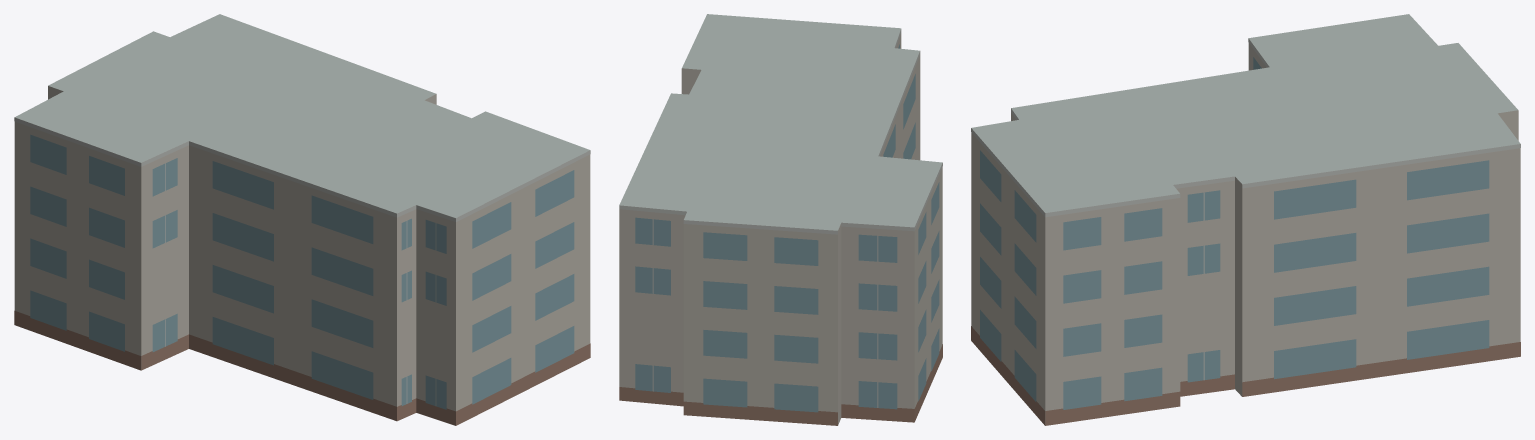
The model's file is survey-upis-32716998.glb.
3 renders of one model, left to right at view 1: azimuth 30°, elevation 25°; view 2: azimuth 150°, elevation 25°; view 3: azimuth 270°, elevation 25°, orthographic. The views are drawn at different scales.
Parts seen in each view (by area): view 1: survey-upis-32716998.tmp; view 2: survey-upis-32716998.tmp; view 3: survey-upis-32716998.tmp.
Part boxes in pixels (x1=…): survey-upis-32716998.tmp: x1=14, y1=14, x2=590, y2=425; survey-upis-32716998.tmp: x1=619, y1=14, x2=942, y2=425; survey-upis-32716998.tmp: x1=971, y1=14, x2=1520, y2=425.
Bounding box in the file's own units: 24.9 × 12.4 × 29.04.
